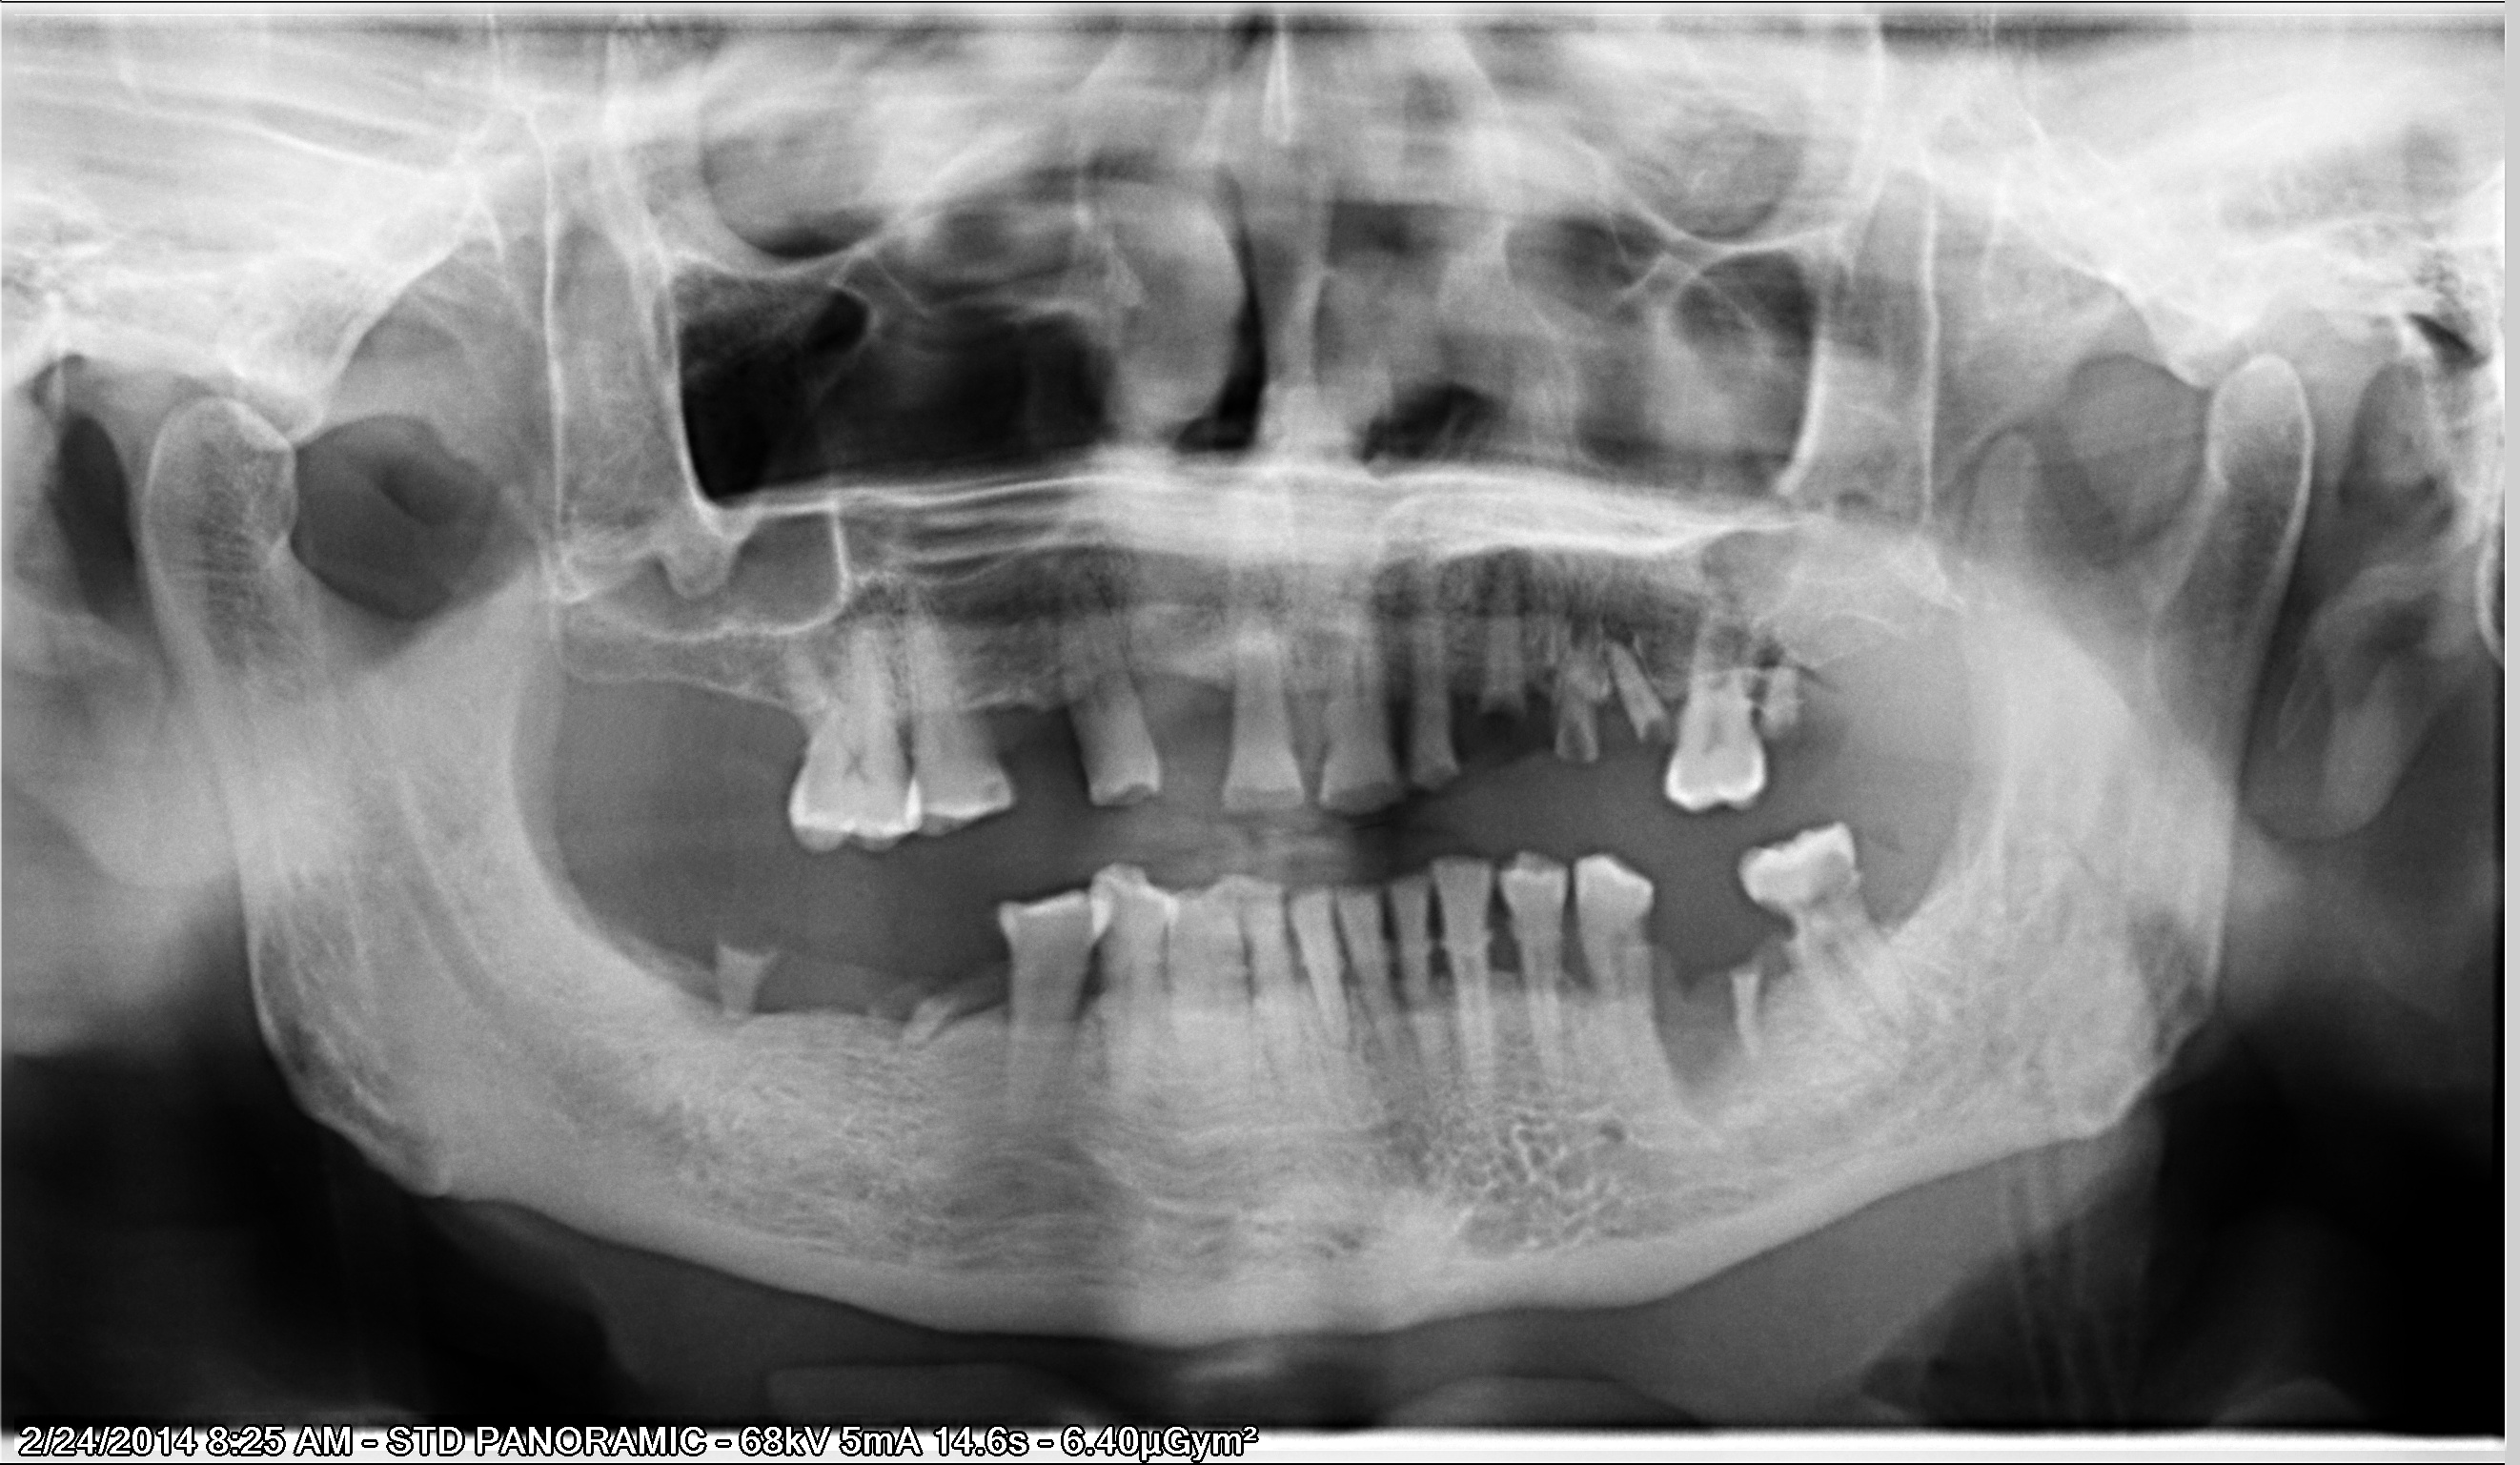API: (1876, 994, 1950, 1064)
CAR: (1812, 835, 1889, 933), (1739, 876, 1812, 951), (1606, 886, 1660, 971), (961, 760, 1024, 818)
IMT: (1641, 985, 1727, 1120), (1109, 651, 1203, 713), (1062, 949, 1121, 1036), (1547, 931, 1603, 1006)
ROT: (868, 952, 1008, 1085), (1474, 539, 1542, 722), (1601, 595, 1674, 753), (687, 930, 792, 1038), (1716, 949, 1784, 1083), (1756, 651, 1845, 741), (1550, 642, 1611, 773)
